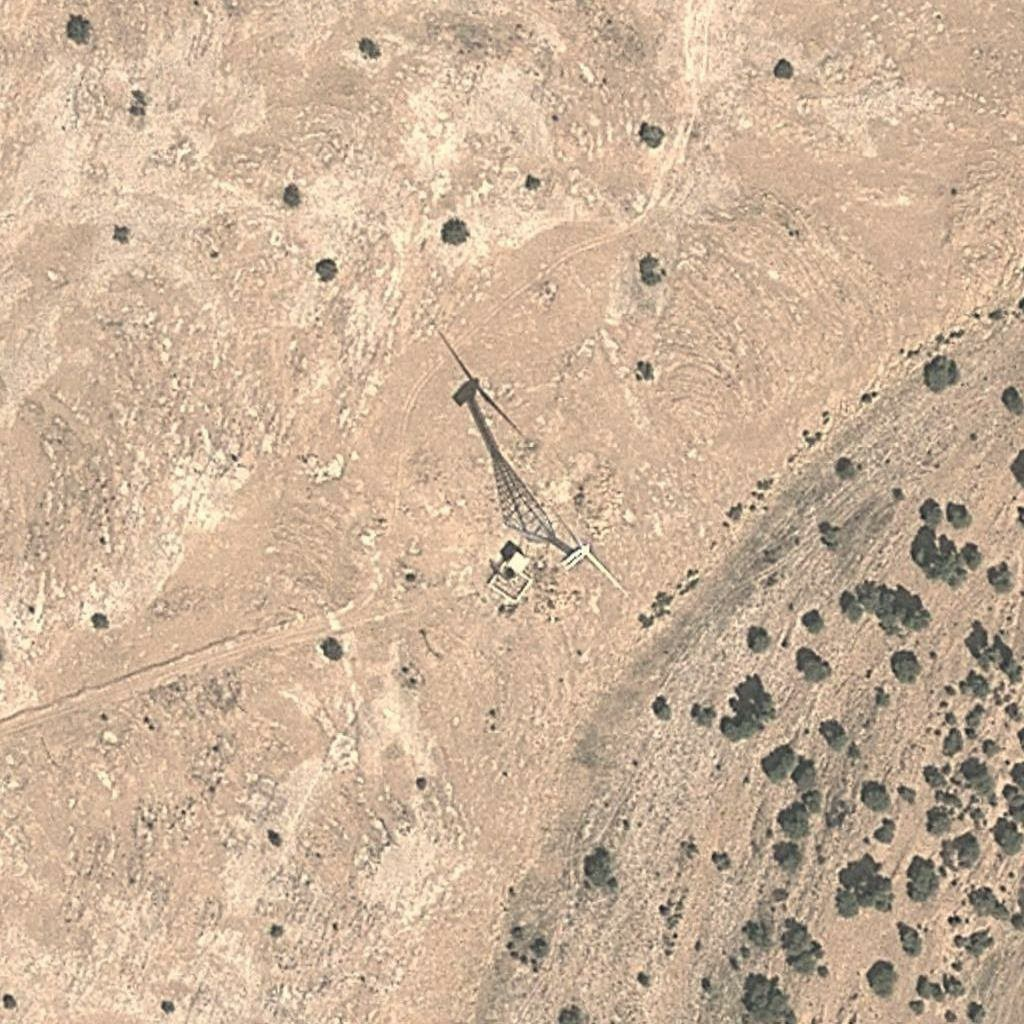Windmill: (412, 301, 571, 547)
